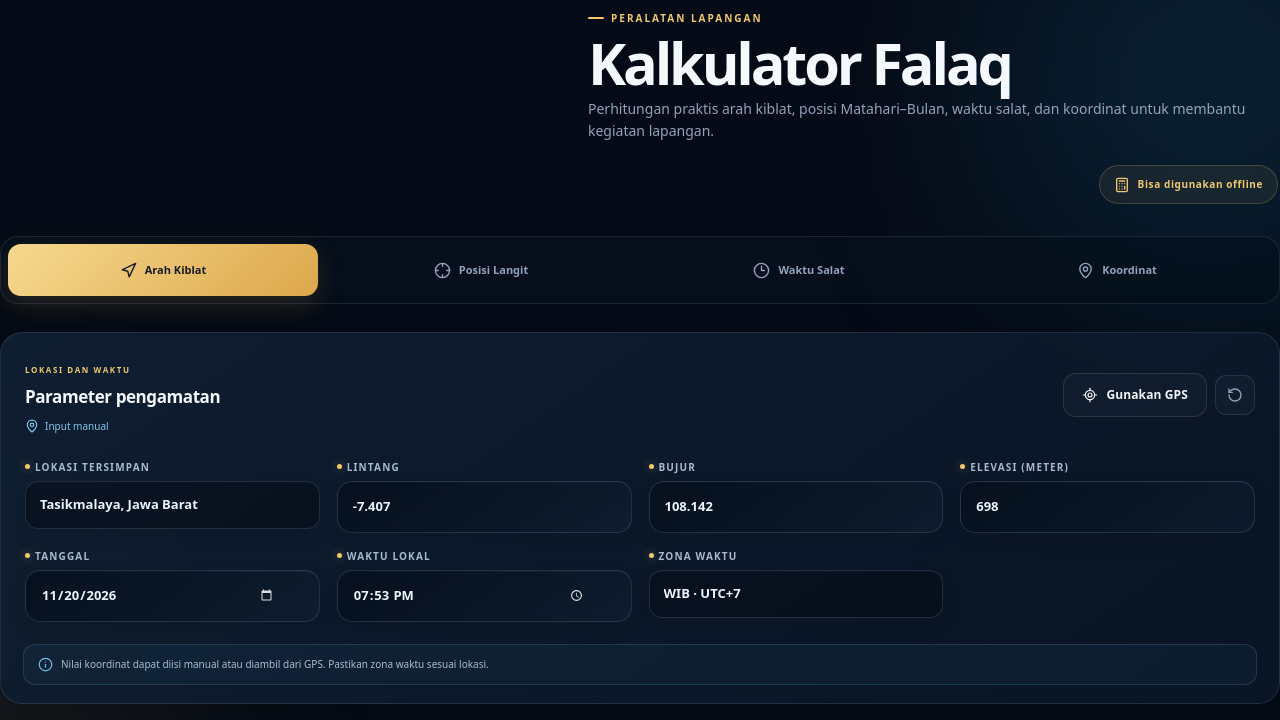
Scenario: PFI UI smoke tests in Happy DOM › marks calculator GPS coordinates as manual after they are edited
Step 1. Click the button "Gunakan GPS" → (1135, 395), box [1063,373,1207,417]
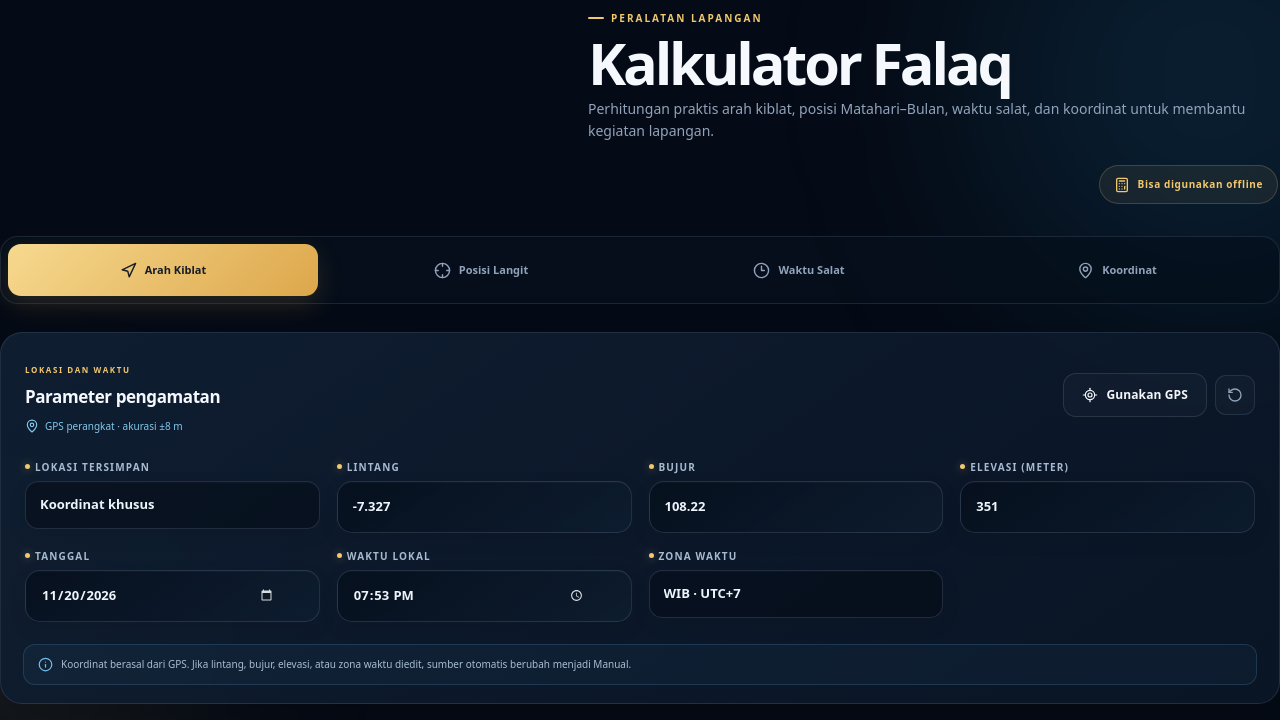
expect the text "GPS perangkat · akurasi ±8 m" is shown: met, box [25,419,183,433]
Step 2. Replace the text in the number field labelled "Bujur" with "108.3" → (796, 507), box [648,481,943,533]
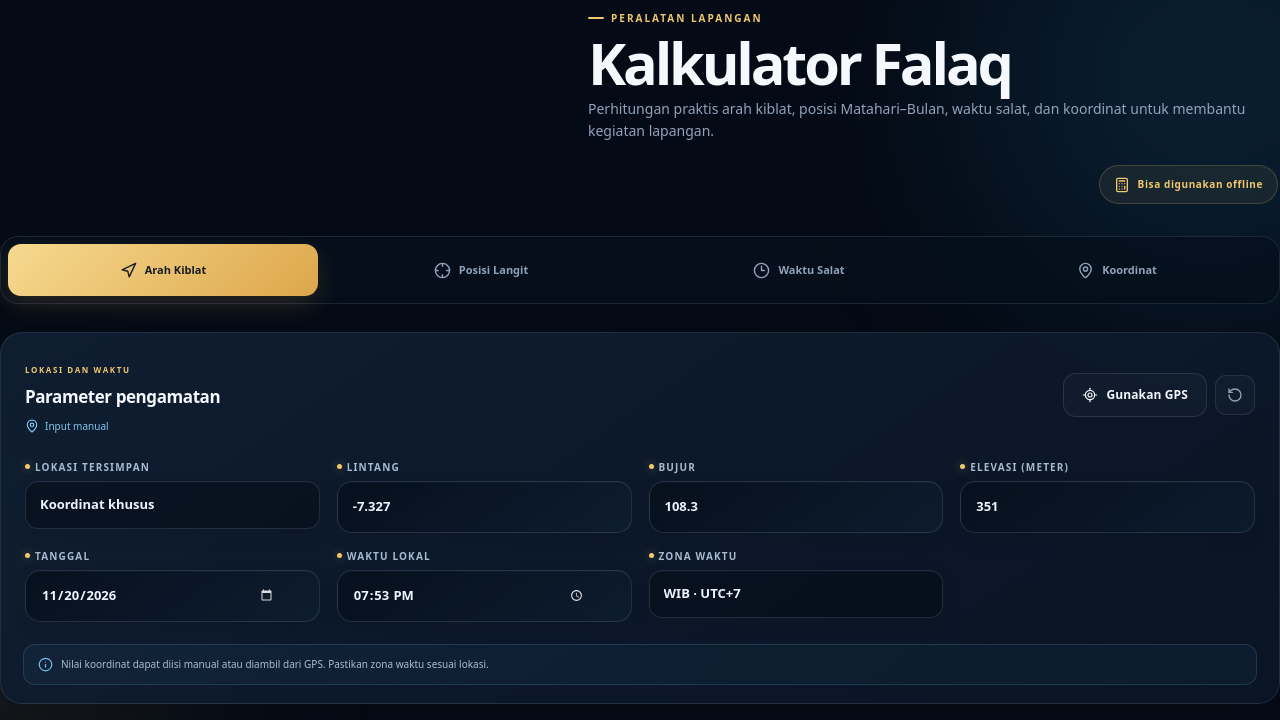
expect the text "Input manual" is shown: met, box [25,419,109,433]
